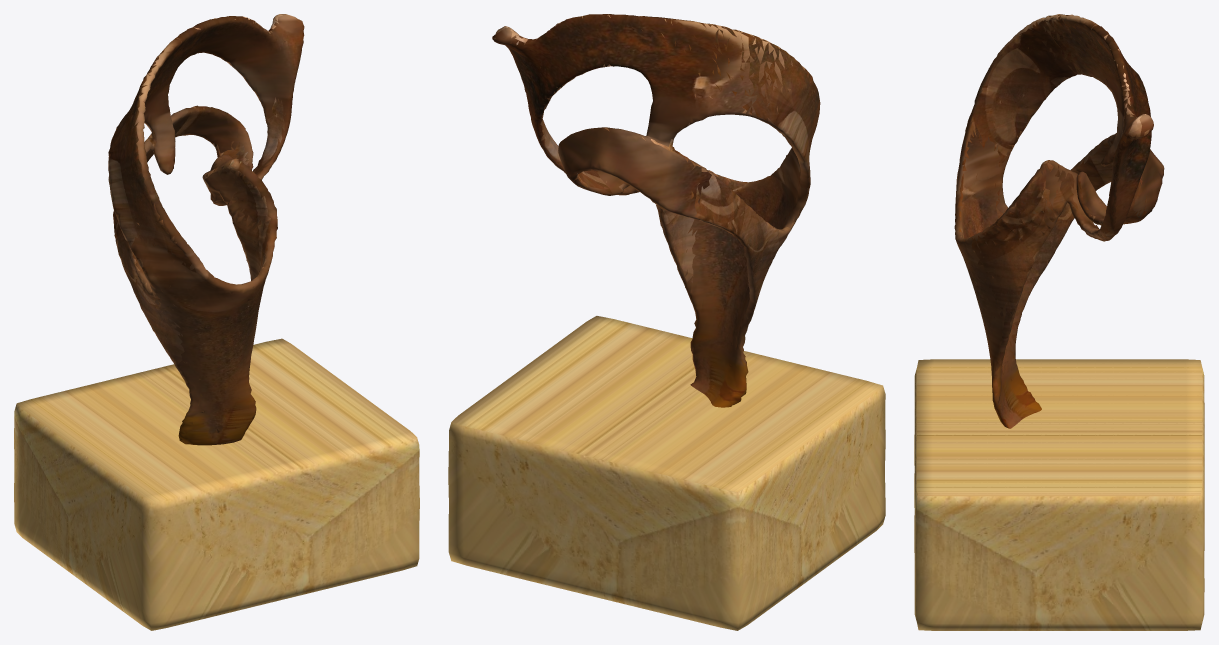
The model's file is hy3d-esc-036.glb.
3 renders of one model, left to right at view 1: azimuth 30°, elevation 25°; view 2: azimuth 150°, elevation 25°; view 3: azimuth 270°, elevation 25°, orthographic. The views are drawn at different scales.
Parts seen in each view (by area): view 1: world; view 2: world; view 3: world.
Part boxes in pixels (<box>): world: <box>14,14,419,630</box>; world: <box>448,14,885,630</box>; world: <box>914,14,1204,630</box>.
Bounding box in the file's own units: 0.6679 × 1.18 × 0.5878.
Materials: 1 (1 with a texture image).
